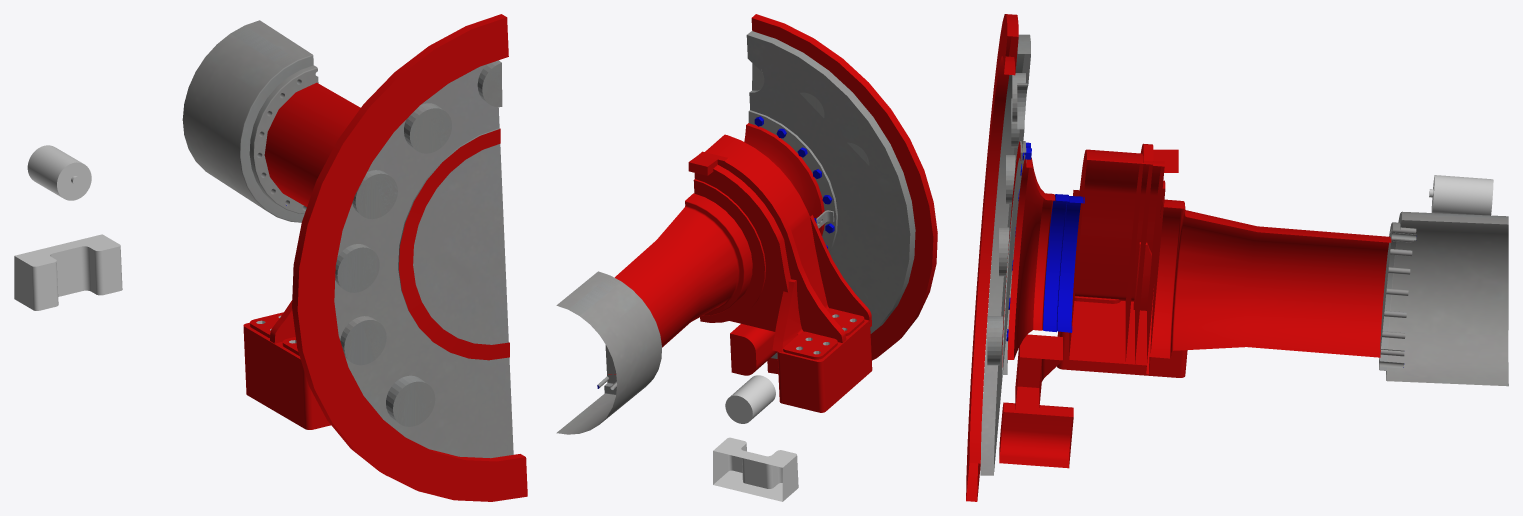
File: Nacelle Interior G.fbx
The picture shows the model from 3 angles, left to right: view 1: azimuth 30°, elevation 25°; view 2: azimuth 150°, elevation 25°; view 3: azimuth 270°, elevation 25°; orthographic projection. The views are drawn at different scales.
Visible parts, largest first — view 1: SM_TurbineRotor_04, Cylinder.006; view 2: SM_TurbineRotor_04; view 3: SM_TurbineRotor_04.
Boxes of the visible parts, box(x1,y1,x2,y2) form: SM_TurbineRotor_04: box(14, 14, 527, 501); Cylinder.006: box(477, 60, 502, 107); SM_TurbineRotor_04: box(556, 14, 937, 501); SM_TurbineRotor_04: box(966, 14, 1508, 501).
Bounding box in the file's own units: 150 × 250 × 264.
